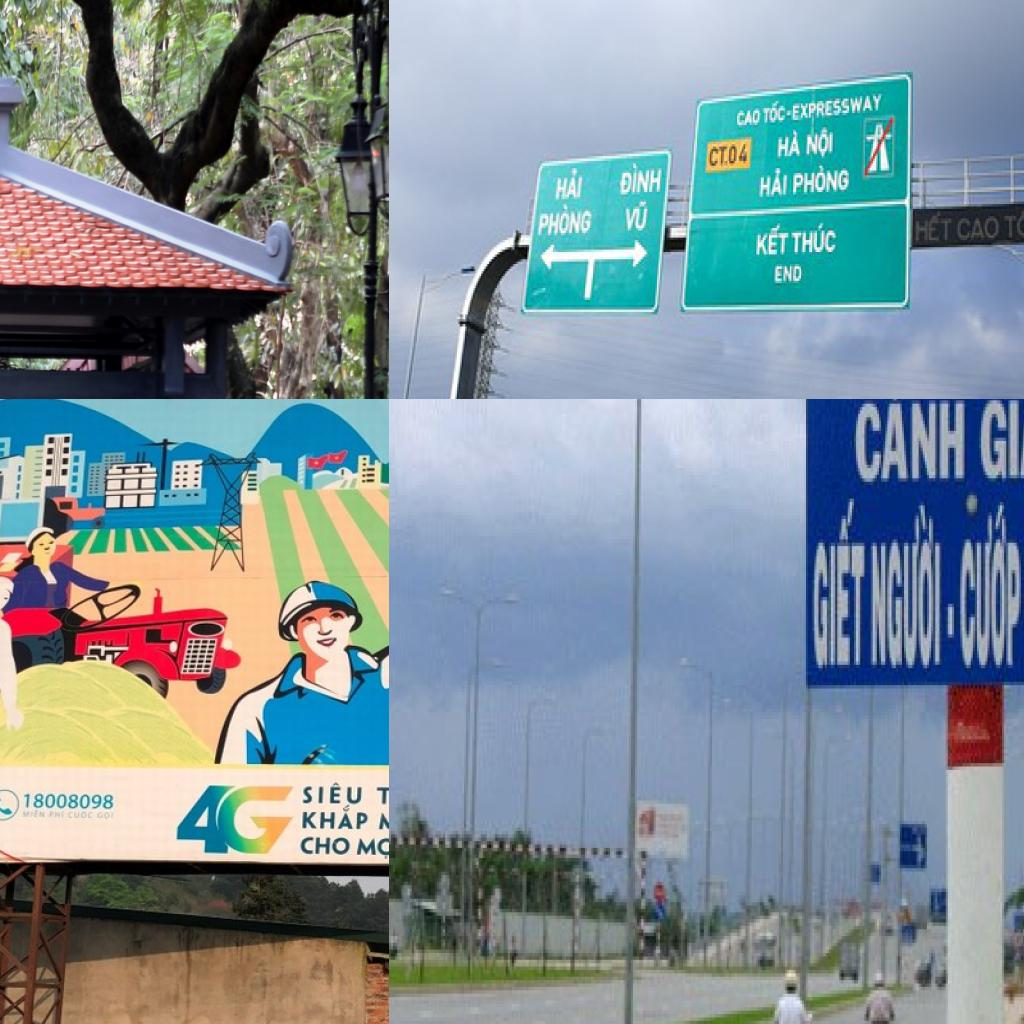text: (868, 502, 942, 672), (958, 498, 1024, 671), (852, 399, 971, 488), (153, 784, 297, 856), (810, 499, 867, 675), (979, 399, 1024, 488), (792, 92, 884, 122), (537, 199, 595, 240), (792, 164, 850, 200), (790, 218, 839, 260), (301, 803, 371, 832), (22, 792, 115, 812), (617, 161, 665, 199), (913, 209, 955, 250), (301, 780, 363, 806), (754, 220, 792, 262), (956, 214, 1001, 247), (804, 125, 838, 163), (708, 140, 750, 170), (756, 166, 790, 202), (554, 166, 586, 202), (299, 836, 352, 856), (624, 199, 652, 233), (776, 127, 802, 161), (354, 836, 389, 861), (774, 264, 802, 290), (737, 106, 764, 130), (762, 101, 786, 127), (375, 779, 389, 806), (20, 808, 48, 820), (66, 811, 96, 822), (376, 811, 389, 835), (94, 812, 116, 822), (47, 810, 68, 820)
